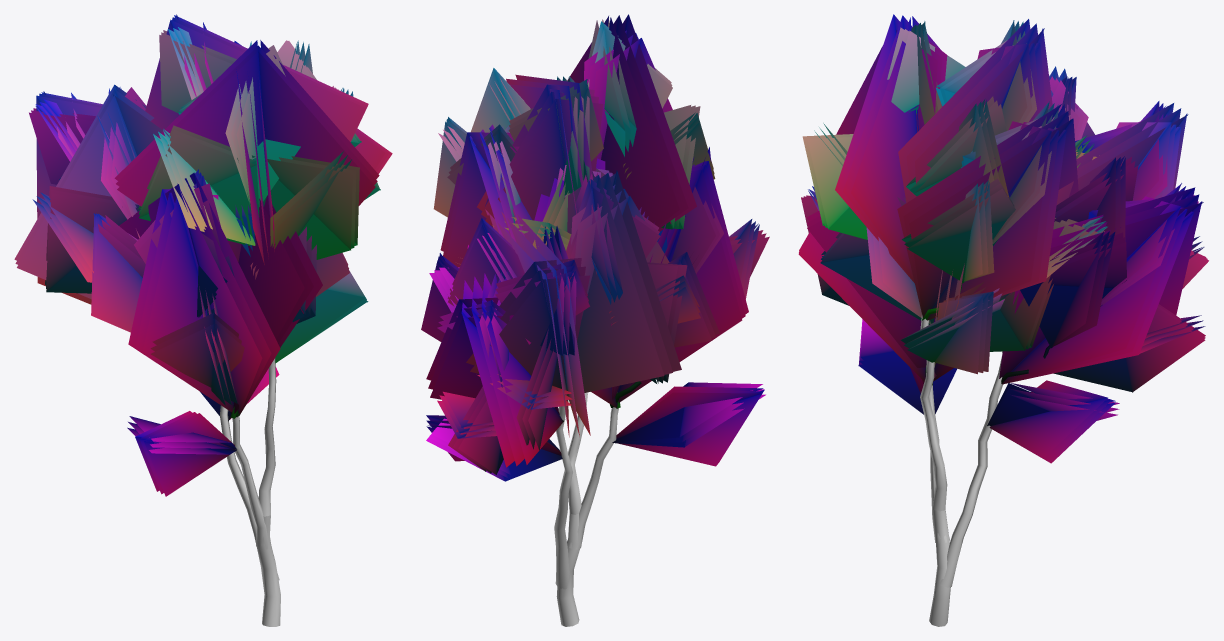
Rendered from bigleafmaple_young.fbx.
3 renders of one model, left to right at view 1: azimuth 30°, elevation 25°; view 2: azimuth 150°, elevation 25°; view 3: azimuth 270°, elevation 25°, orthographic.
Visible parts, largest first — view 1: tree_shadow, tree_branches_lod0, tree_trunk_lod0; view 2: tree_branches_lod0, tree_shadow, tree_trunk_lod0; view 3: tree_shadow, tree_branches_lod0, tree_trunk_lod0.
Boxes of the visible parts, left/top/right/bottom form: tree_shadow: left=15, top=17, right=388, bottom=496; tree_branches_lod0: left=14, top=14, right=392, bottom=494; tree_trunk_lod0: left=219, top=358, right=280, bottom=626; tree_branches_lod0: left=426, top=14, right=766, bottom=478; tree_shadow: left=421, top=15, right=769, bottom=481; tree_trunk_lod0: left=554, top=392, right=618, bottom=626; tree_shadow: left=799, top=15, right=1208, bottom=463; tree_branches_lod0: left=798, top=14, right=1207, bottom=460; tree_trunk_lod0: left=920, top=315, right=1003, bottom=626.
Size of what is drawn, in the model's own units: 4.12 by 8.08 by 5.06.
